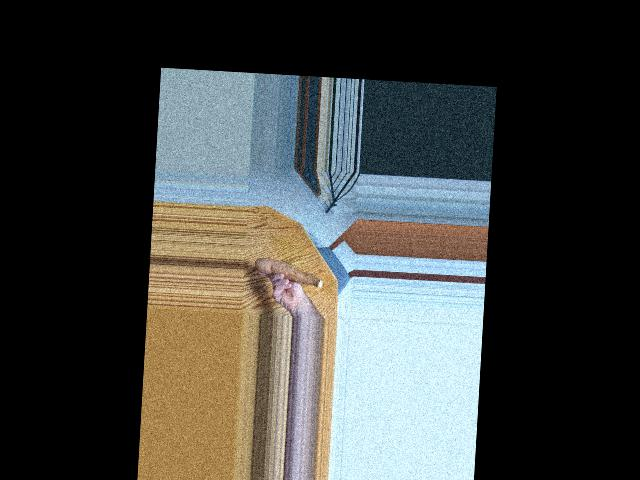sweet_potato: (255, 254, 325, 290)
